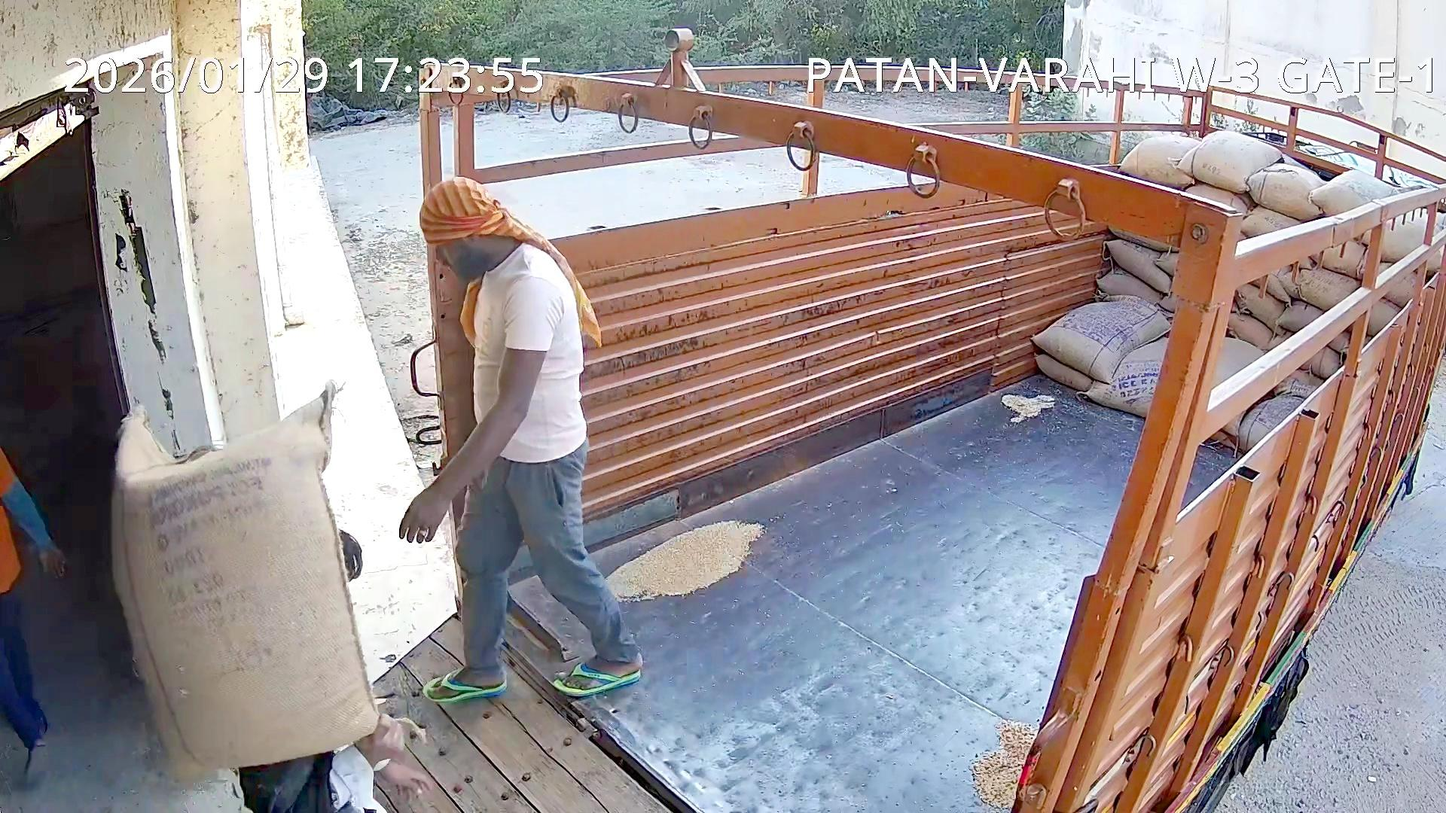Sack: (112, 382, 377, 778)
